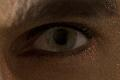eye: (47, 27, 78, 52)
